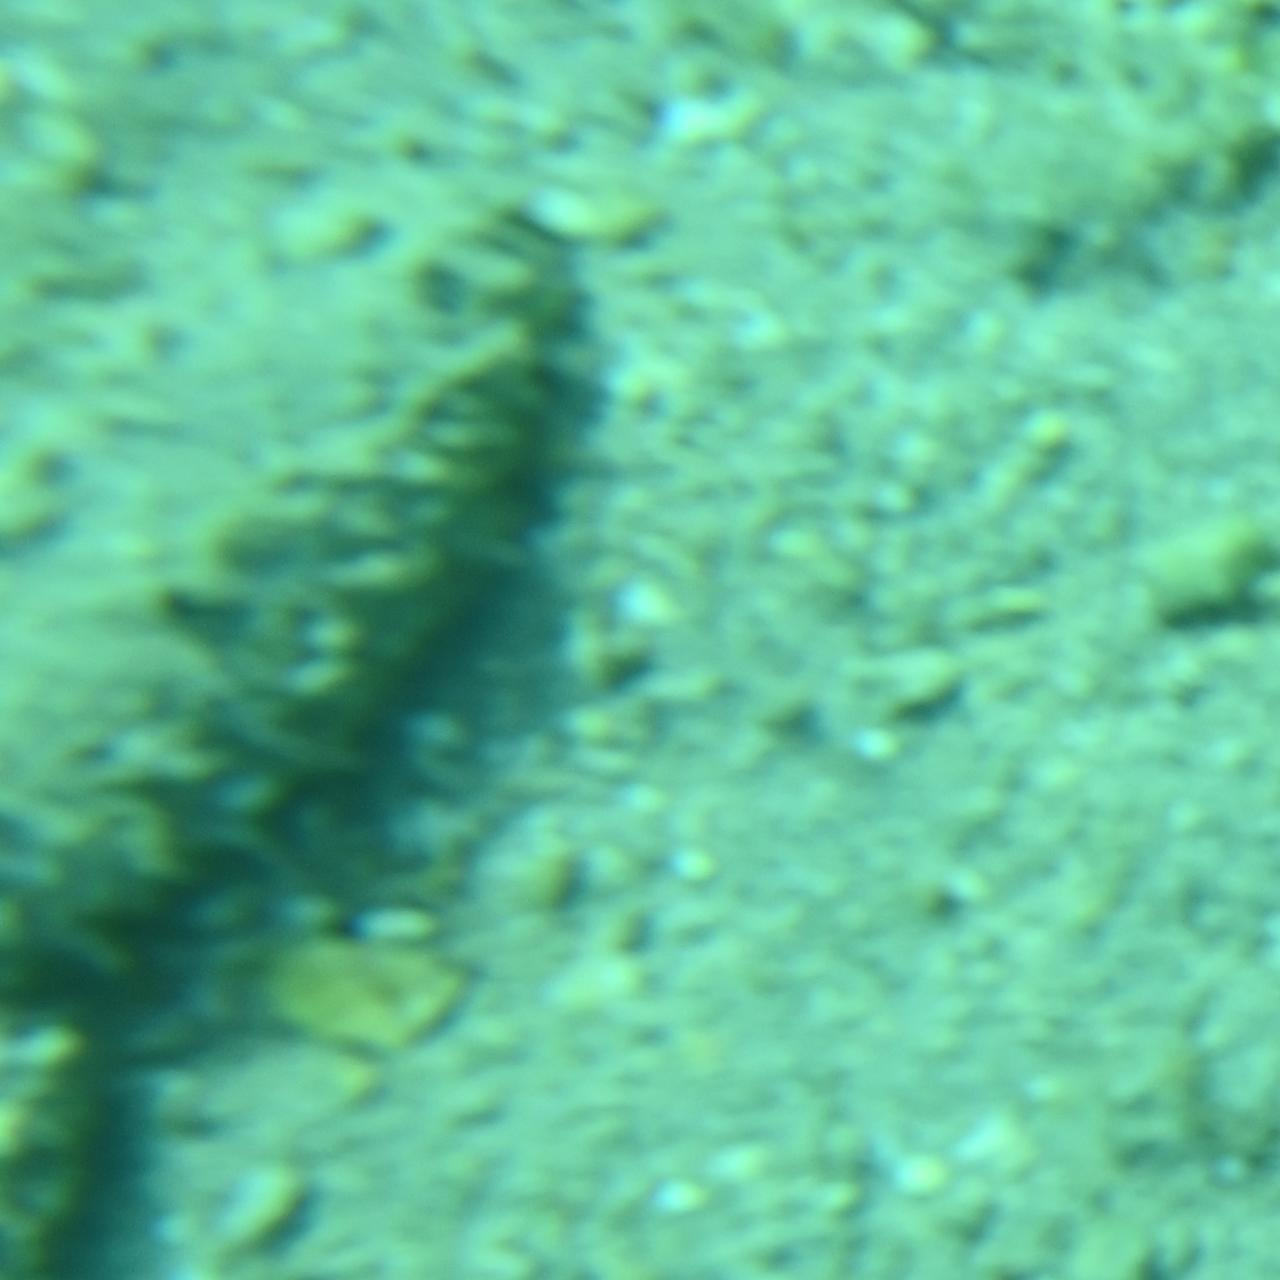Holothuria tubulosa: (0, 183, 604, 1097)
